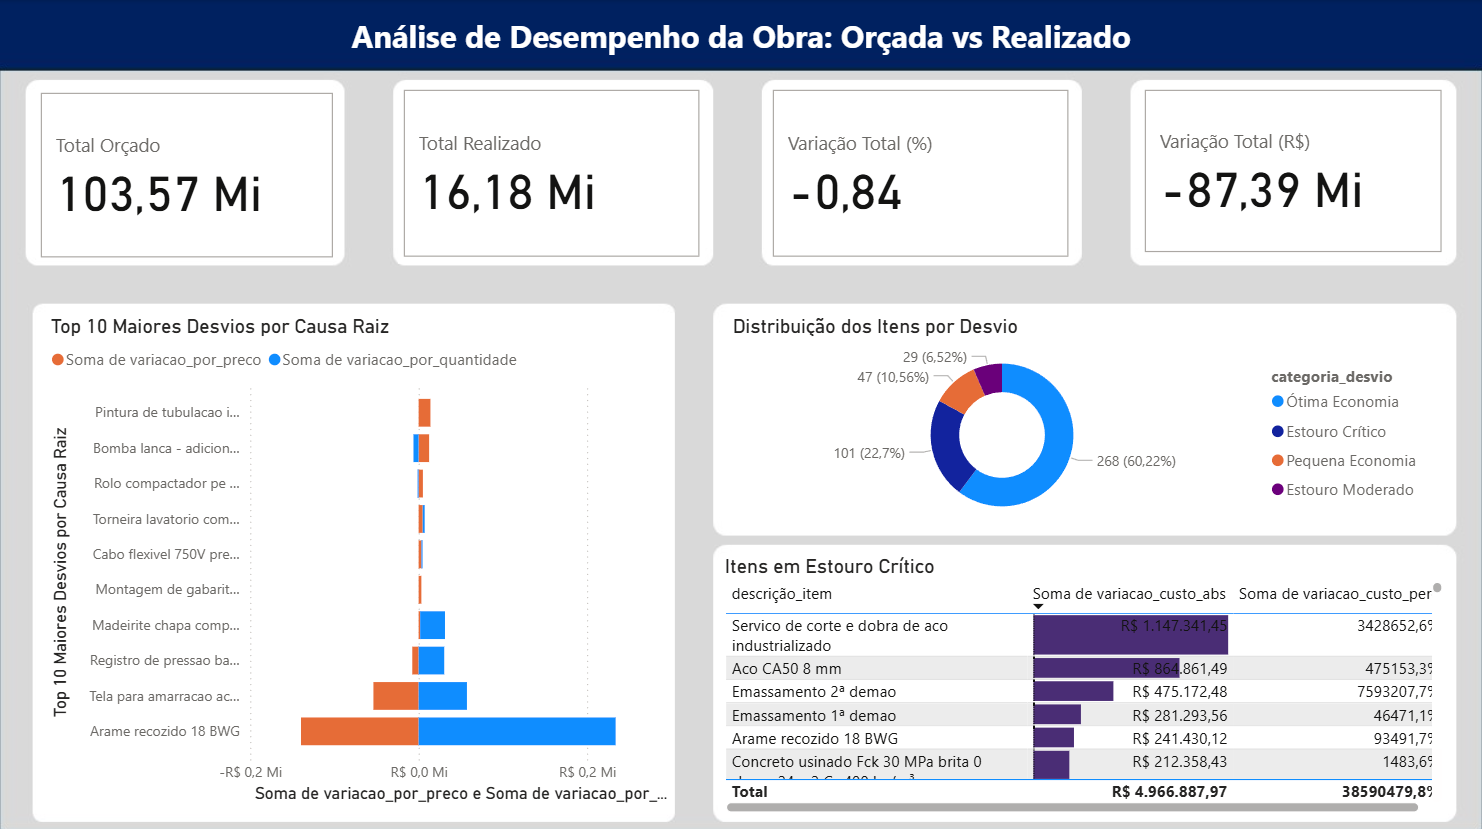

The page's visual inventory and layout, read from the dashboard file:
{"tool":"powerbi","page":{"name":"main","canvas":[1280,720],"ordinal":0},"visuals":[{"type":"textbox","box":[293.5,8,693.8,48.9],"z":0},{"type":"cardVisual","fields":{"Data":["Sheet1.Total Orçado"]},"box":[31.1,74.7,262.4,152.1],"z":1000},{"type":"cardVisual","fields":{"Data":["Sheet1.Variação Total (R$)"]},"box":[982.9,72.1,266.9,150.3],"z":2000},{"type":"cardVisual","fields":{"Data":["Sheet1.Variação Total (%)"]},"box":[662.7,72.1,265.1,154.8],"z":3000},{"type":"cardVisual","fields":{"Data":["Sheet1.Total Realizado"]},"box":[344.2,72.1,265.1,154.7],"z":4000},{"type":"barChart","title":"Top 10 Maiores Desvios por Causa Raiz","fields":{"Category":["Sheet1.descrição_item"],"Y":["Sum(Sheet1.variacao_por_preco)","Sum(Sheet1.variacao_por_quantidade)"]},"box":[40,270.4,570.2,427],"z":5000},{"type":"donutChart","title":"Distribuição dos Itens por Desvio","fields":{"Category":["Sheet1.categoria_desvio"],"Y":["Count(Sheet1.cód._item)"]},"box":[628,270.4,608.4,187.7],"z":6000},{"type":"tableEx","title":"Itens em Estouro Crítico","fields":{"Values":["Sheet1.descrição_item","Sum(Sheet1.variacao_custo_abs)","Sum(Sheet1.variacao_custo_perc)"]},"box":[620.9,477.7,628.9,227.7],"z":7000}]}

Visuals, with their boxes in screenshot pixels (x1, y1, x2, y2), scaled from the page's 1280x720 canvas onto the 1482x829 screenshot:
textbox: bbox(340, 9, 1143, 66)
cardVisual - Sheet1.Total Orçado: bbox(36, 86, 340, 261)
cardVisual - Sheet1.Variação Total (R$): bbox(1138, 83, 1447, 256)
cardVisual - Sheet1.Variação Total (%): bbox(767, 83, 1074, 261)
cardVisual - Sheet1.Total Realizado: bbox(399, 83, 705, 261)
"Top 10 Maiores Desvios por Causa Raiz" barChart: bbox(46, 311, 706, 803)
"Distribuição dos Itens por Desvio" donutChart: bbox(727, 311, 1432, 527)
"Itens em Estouro Crítico" tableEx: bbox(719, 550, 1447, 812)
